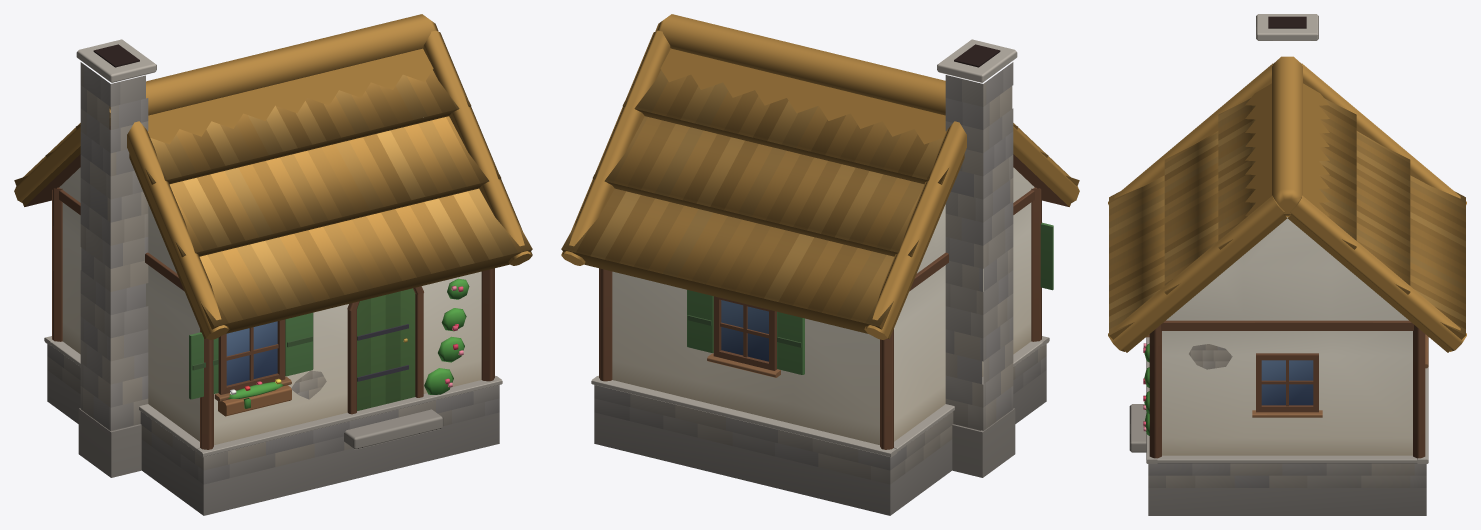
File: house_c.glb
The picture shows the model from 3 angles, left to right: view 1: azimuth 30°, elevation 25°; view 2: azimuth 150°, elevation 25°; view 3: azimuth 270°, elevation 25°; orthographic projection. The views are drawn at different scales.
Parts seen in each view (by area): view 1: house_c; view 2: house_c; view 3: house_c.
Part boxes in pixels (x1,y1,x2,y2): house_c: (14, 14, 532, 515); house_c: (561, 14, 1079, 515); house_c: (1108, 14, 1466, 515).
Size of the model in its own units: 5.48 by 6.21 by 5.59.
